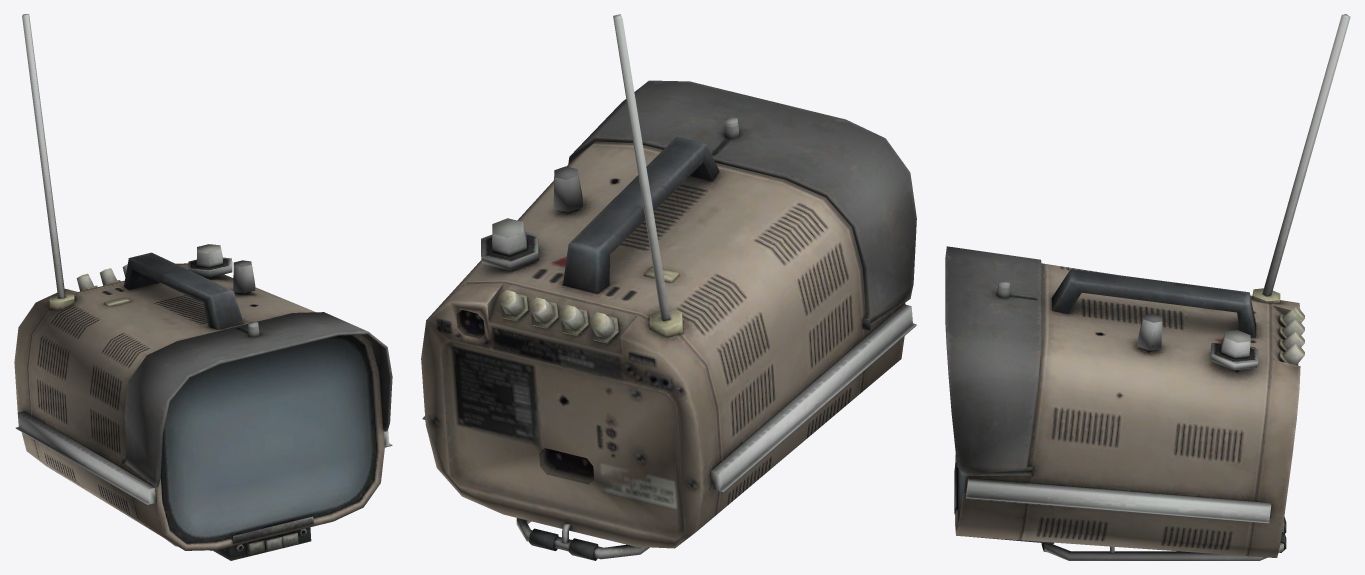
3 views of the same model, side by side, from view 1: azimuth 30°, elevation 25°; view 2: azimuth 150°, elevation 25°; view 3: azimuth 270°, elevation 25° (orthographic). The views are drawn at different scales.
Visible parts, largest first — view 1: TV; view 2: TV; view 3: TV.
Part boxes in pixels (x1,y1,x2,y2): TV: (14,14,392,560); TV: (421,14,916,560); TV: (945,14,1350,560).
Size of the model in its own units: 9.1 by 11.98 by 15.9.
Materials: 1 (1 with a texture image).
